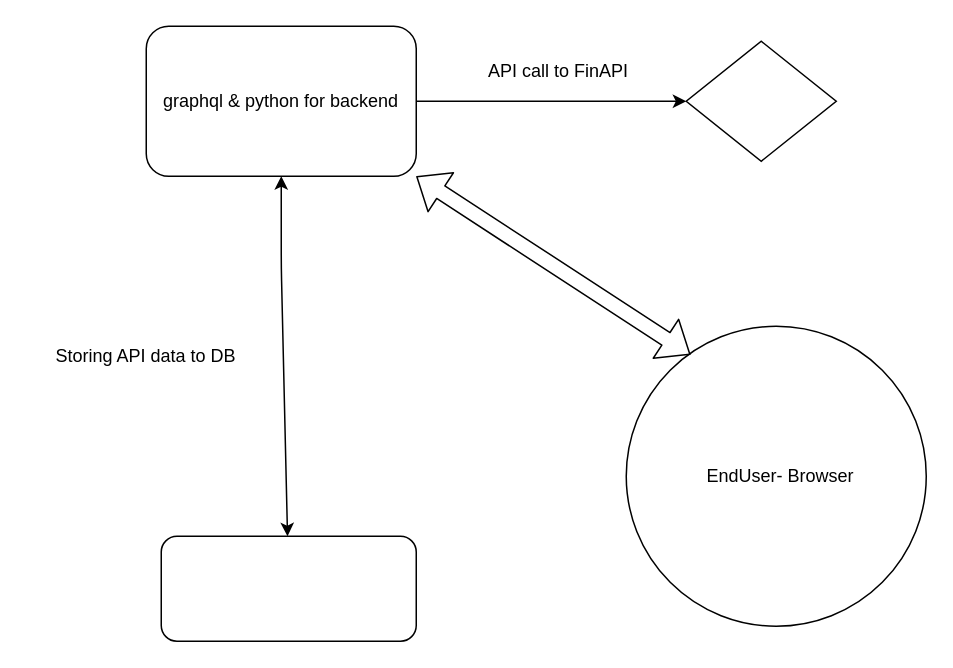
Some shapes in this 953 by 668 pixel diagram are drawn without their labels. The centre of each missing label's shape, as x and y in pixels:
API Data Stored: (x=288, y=588)
FinAPI: (x=760, y=100)
